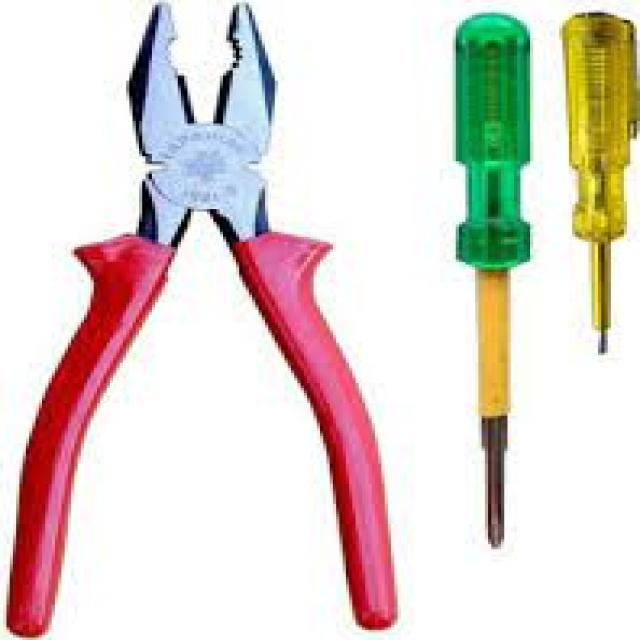Screwdriver: (455, 14, 529, 547), (563, 13, 638, 353)
